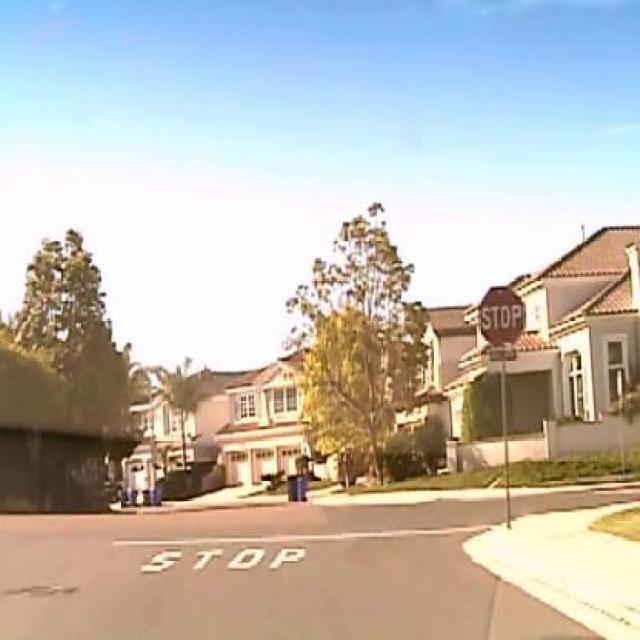stop: (480, 288, 526, 349)
